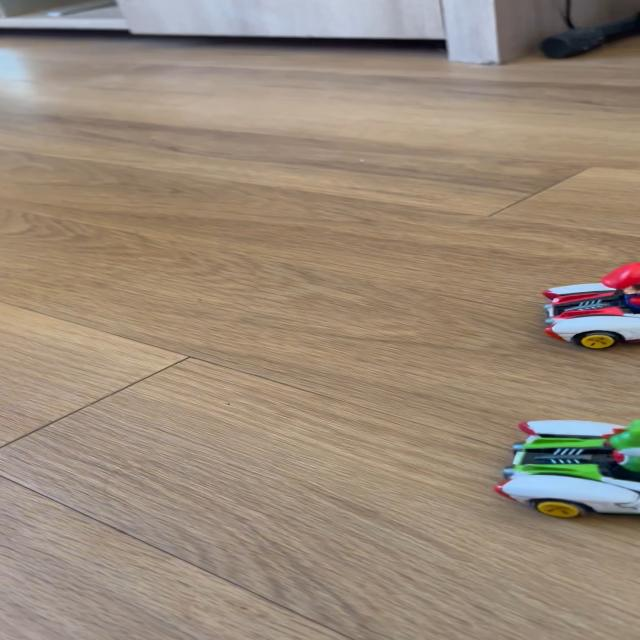mario: (530, 255, 640, 346)
yoshi: (485, 401, 640, 525)
